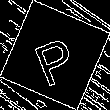P_N: (29, 25, 81, 85)
